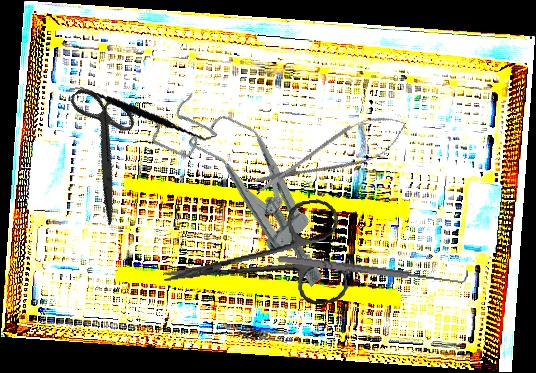Hook Surgical: (277, 246, 469, 289)
Iris Scissors: (155, 196, 350, 326), (31, 73, 178, 226)
Micro Scissor: (247, 103, 414, 207)
Spatula Surgical: (68, 60, 218, 165)
Speculum: (144, 76, 360, 300)
